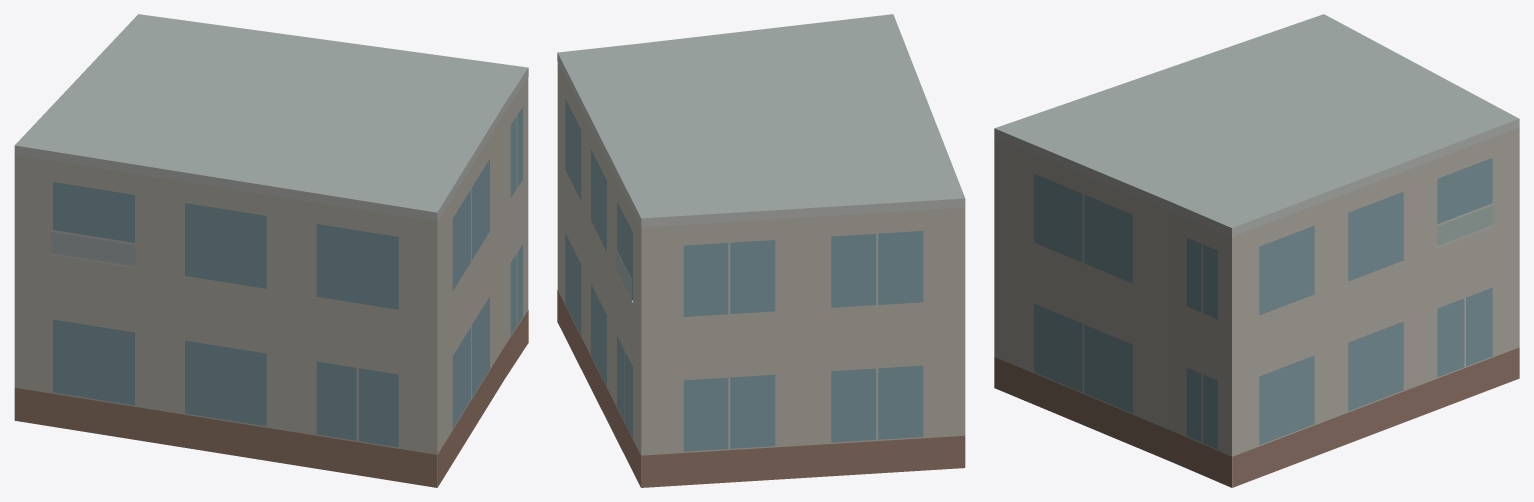
Rendered from survey-upis-33008400.glb.
3 views of the same model, side by side, from view 1: azimuth 30°, elevation 25°; view 2: azimuth 150°, elevation 25°; view 3: azimuth 270°, elevation 25° (orthographic). The views are drawn at different scales.
Parts seen in each view (by area): view 1: survey-upis-33008400.tmp; view 2: survey-upis-33008400.tmp; view 3: survey-upis-33008400.tmp.
Part boxes in pixels (x1,y1,x2,y2): survey-upis-33008400.tmp: (14, 14, 528, 487); survey-upis-33008400.tmp: (557, 14, 965, 487); survey-upis-33008400.tmp: (994, 14, 1519, 487).
Bounding box in the file's own units: 12.92 × 7.3 × 13.39.
